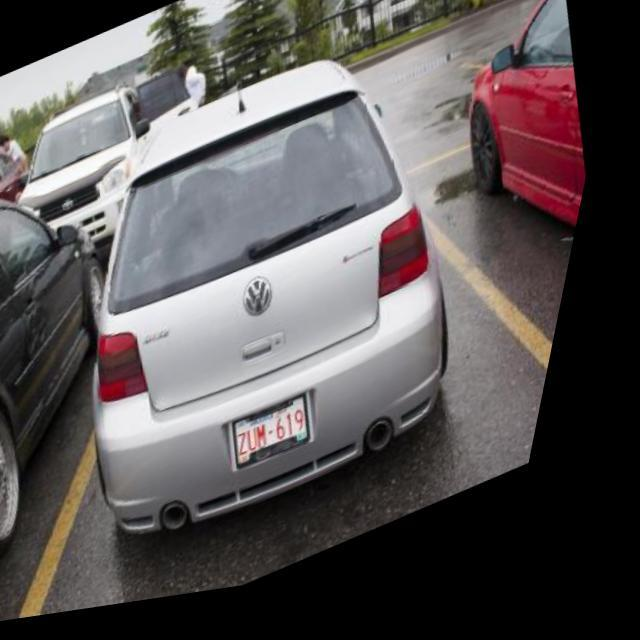license_plate: (242, 399, 341, 484)
